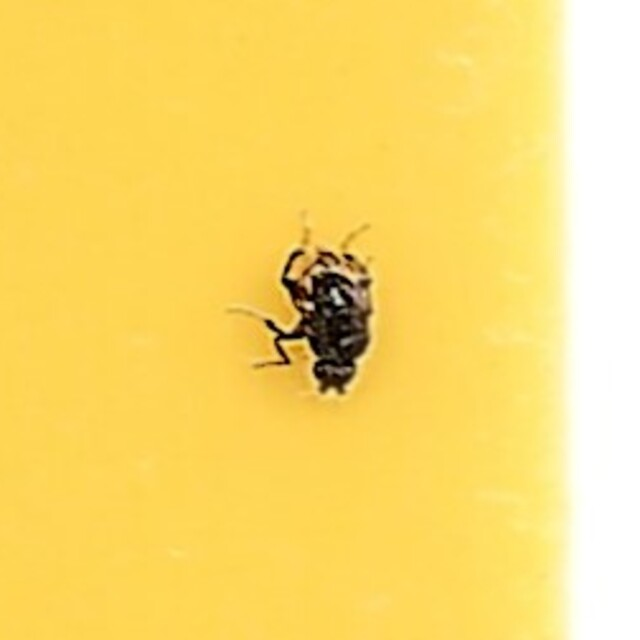Brachycera: (254, 234, 386, 406)
